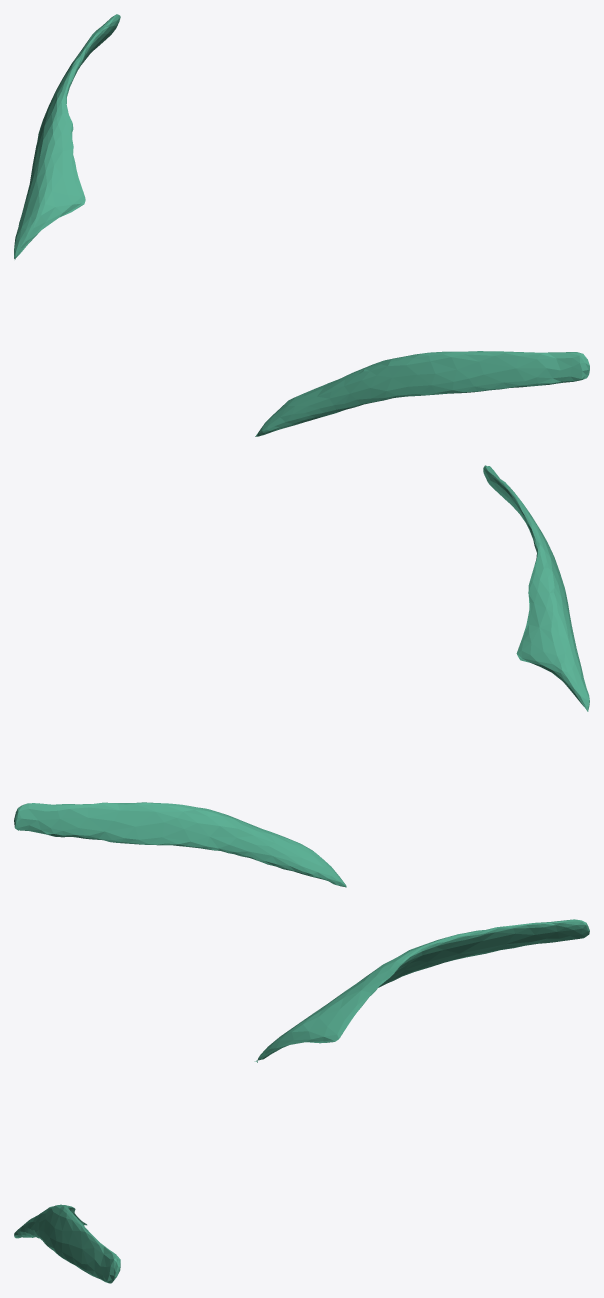
3 renders of one model, top to bottom at view 1: azimuth 30°, elevation 25°; view 2: azimuth 150°, elevation 25°; view 3: azimuth 330°, elevation 25°, orthographic.
Visible parts, largest first — view 1: 704.obj; view 2: 704.obj; view 3: 704.obj.
Part boxes in pixels (x1,y1,x2,y2): 704.obj: [14, 14, 589, 436]; 704.obj: [14, 465, 589, 887]; 704.obj: [14, 919, 589, 1283].
Size of the model in its own units: 2080 by 1054 by 7830.
